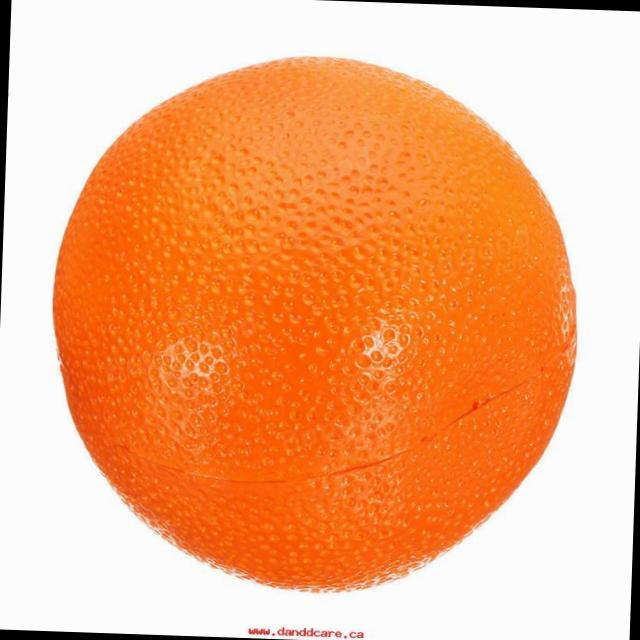orange: (50, 40, 578, 604)
